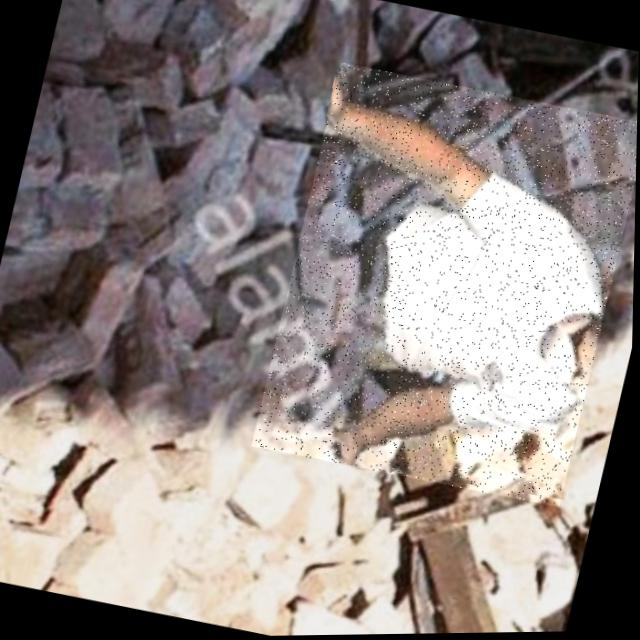Person in Rubble: (251, 60, 639, 512)
